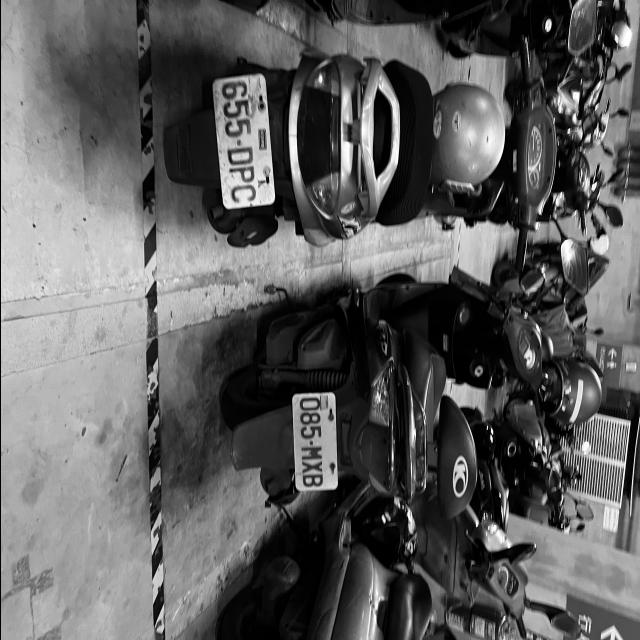-: (234, 138, 244, 148), (308, 440, 314, 446)
0: (298, 397, 320, 411)
5: (223, 118, 250, 138), (223, 99, 250, 119), (300, 424, 322, 438)
6: (220, 82, 248, 99)
8: (299, 412, 320, 424)
B: (300, 473, 323, 488)
C: (228, 185, 256, 202)
D: (227, 146, 253, 166)
M: (301, 447, 322, 459)
P: (227, 165, 255, 182)
X: (301, 460, 323, 474)
plate: (223, 74, 263, 208), (296, 394, 332, 492)
